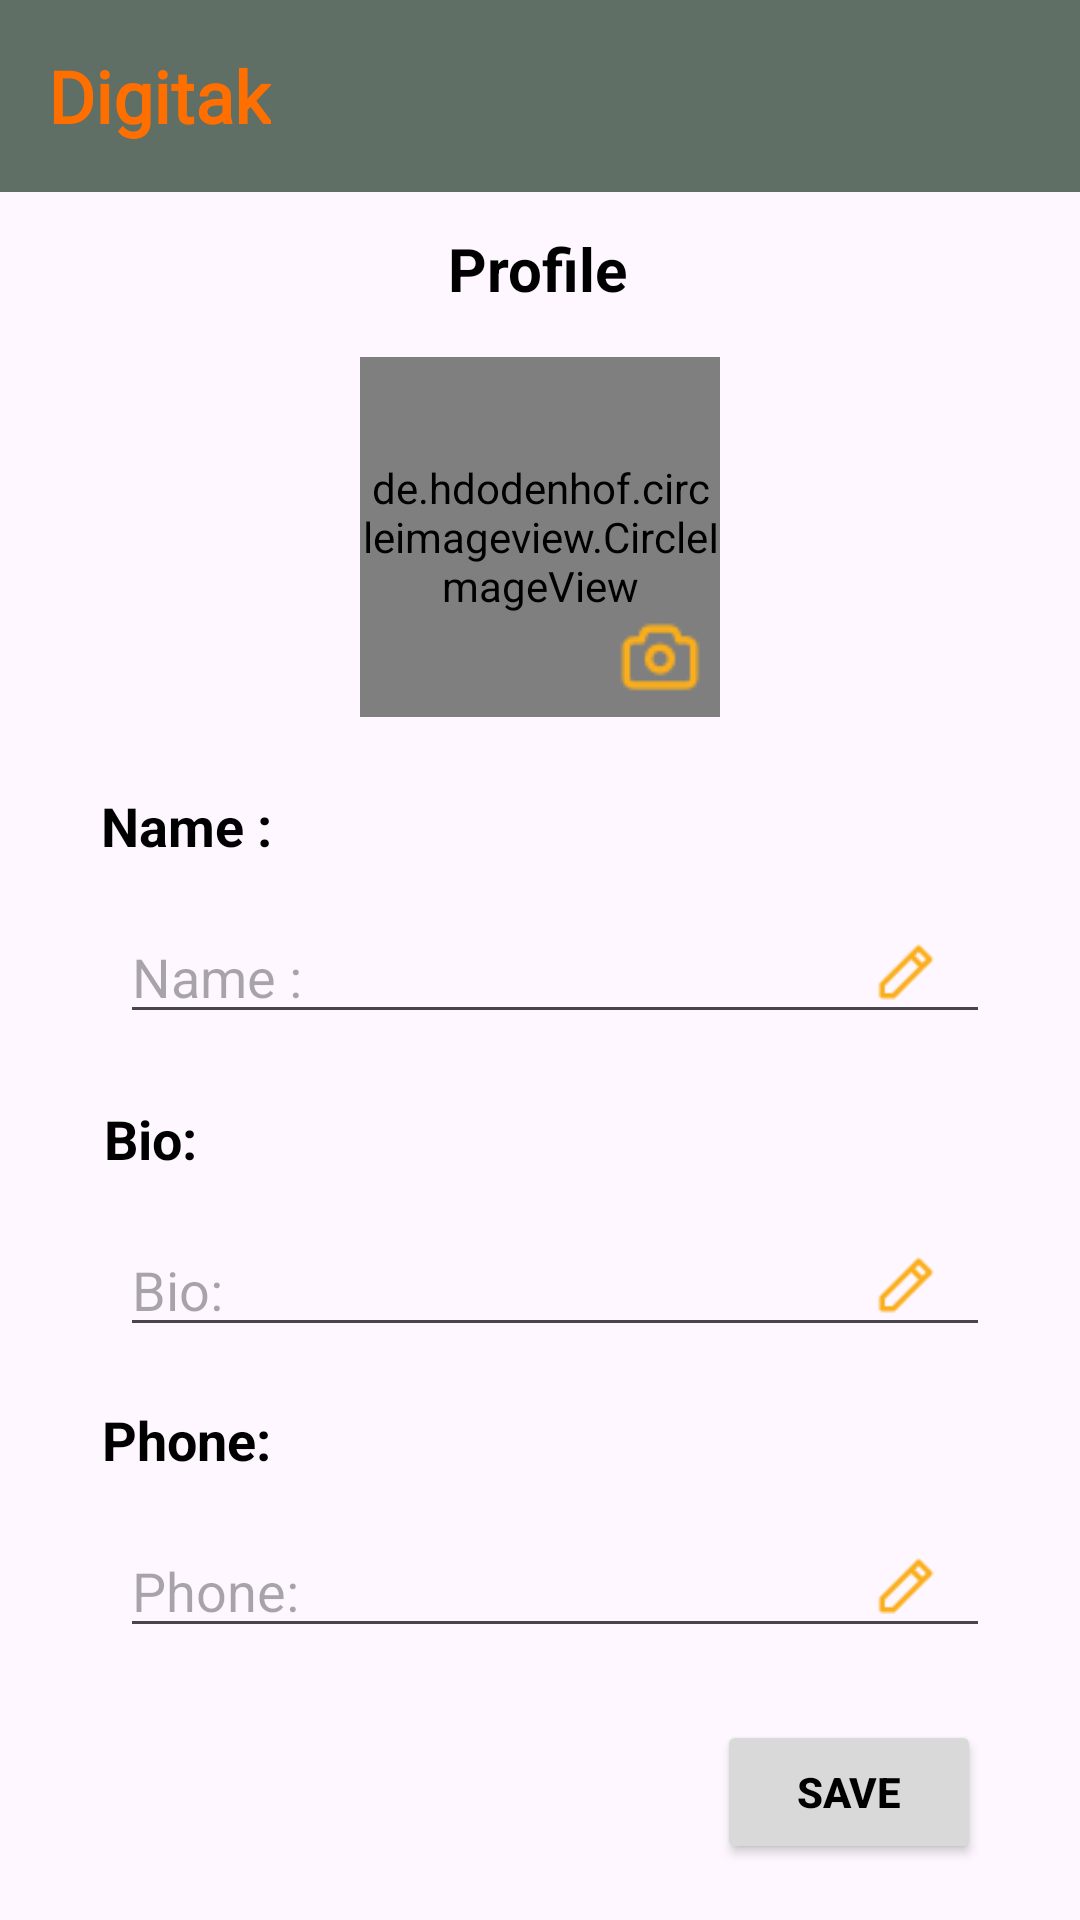

Named icons in this screenshot (1080 × 1920) and their bounding boxes, (left=x1, top=y1, right=x2, bottom=y2):
camera: (left=621, top=623, right=699, bottom=691)
edit: (left=878, top=944, right=934, bottom=1000), (left=878, top=1257, right=934, bottom=1313), (left=878, top=1558, right=934, bottom=1614)
